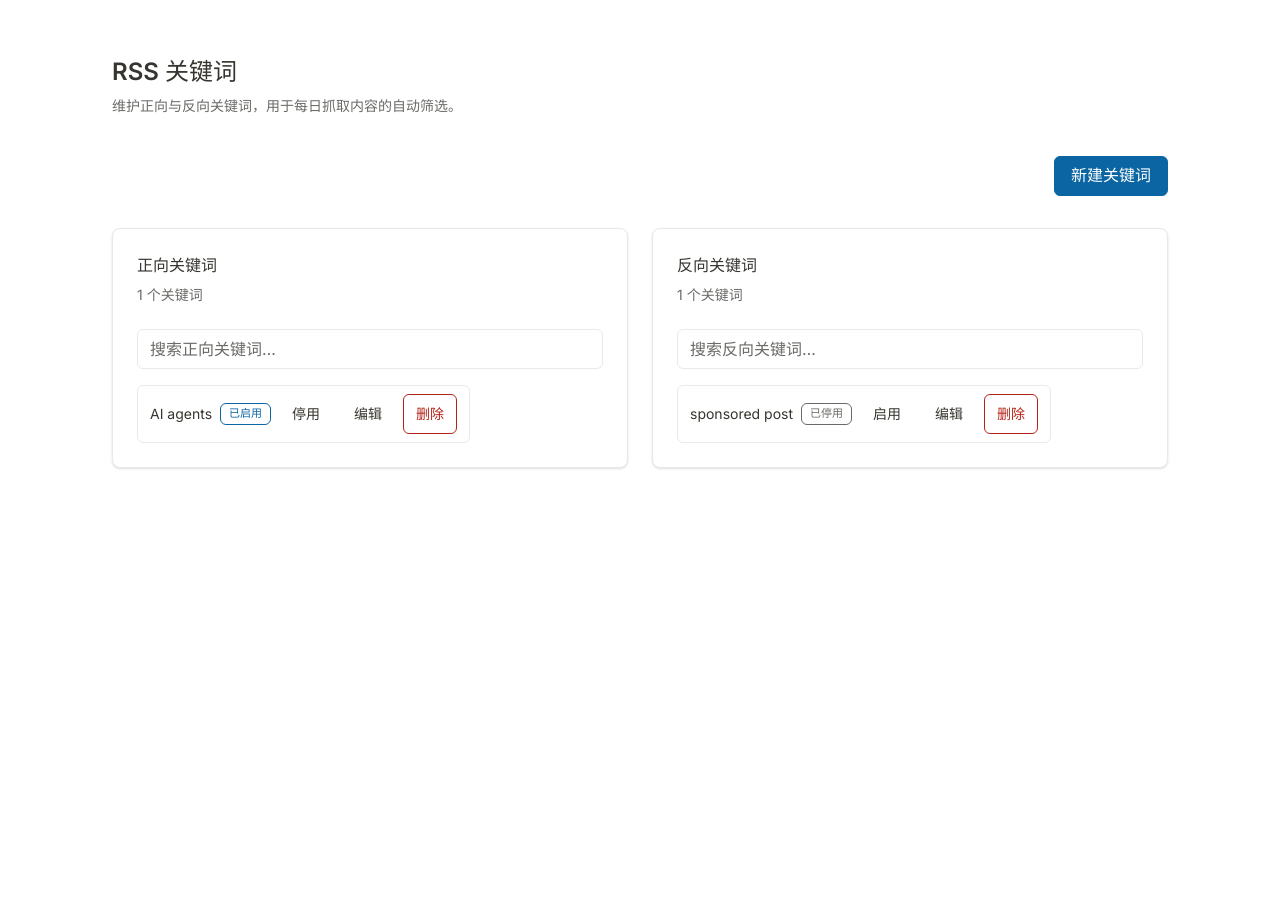
Scenario: RssKeywordsPage › edits and reclassifies a keyword through the drawer
The image size is (1280, 900).
Click the button with aria-label "编辑 AI agents".
click(368, 414)  # box [341,394,395,434]
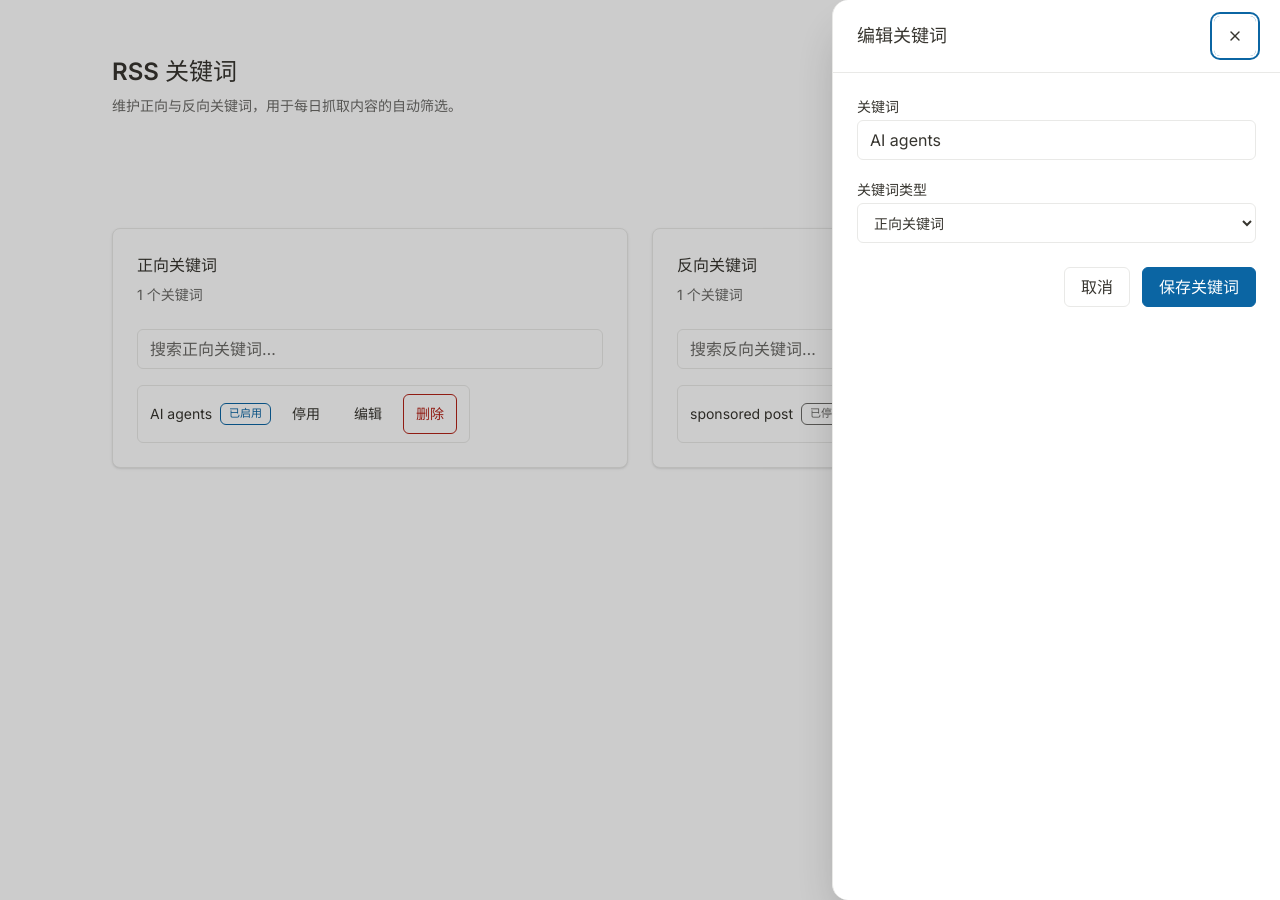
Check: the field labelled "关键词" holds "AI agents"
Replace the text in the field labelled "关键词" with "AI systems" at (1056, 140), box [857,120,1256,160]
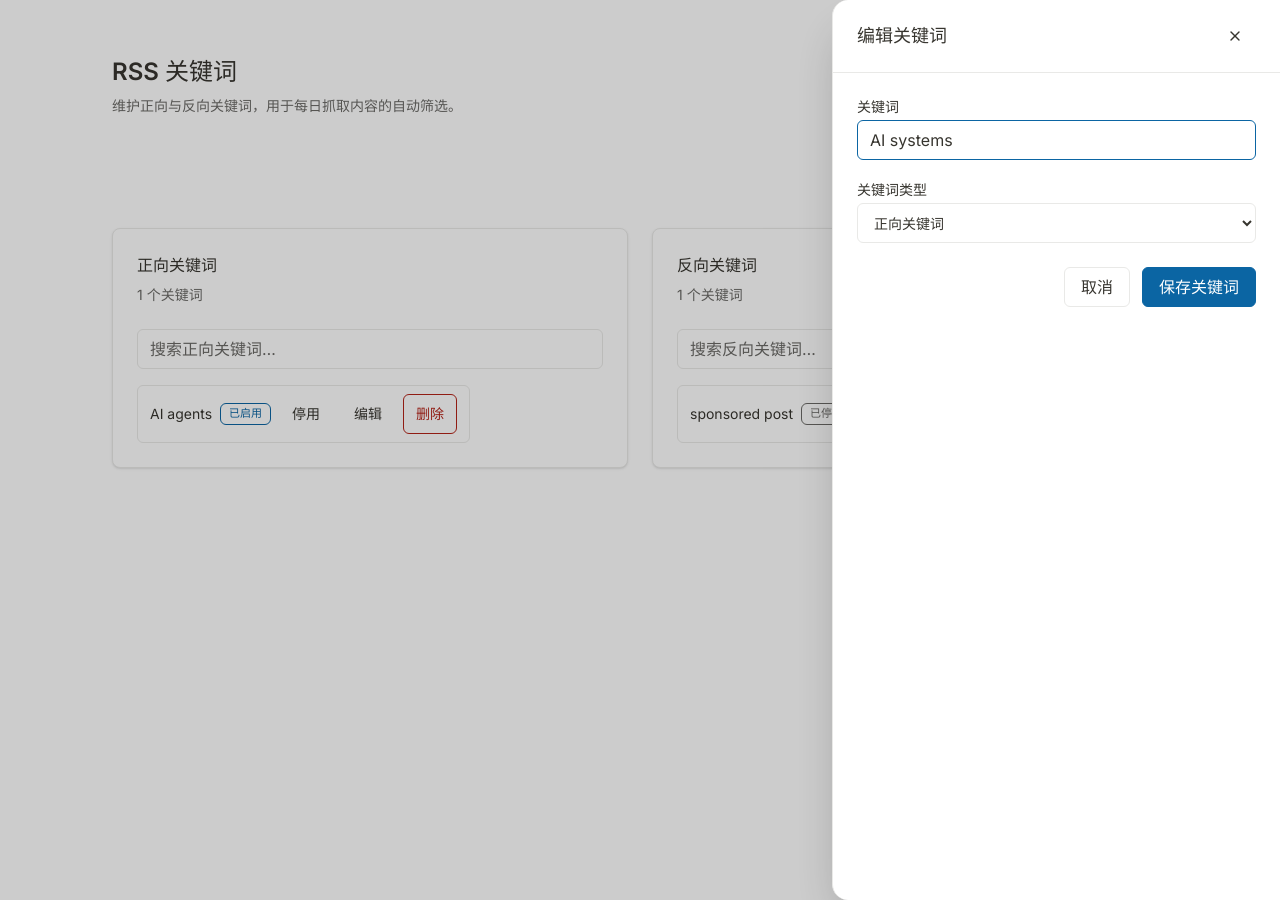
Select "反向关键词" in the dropdown labelled "关键词类型" at (1056, 223), box [857,203,1256,243]
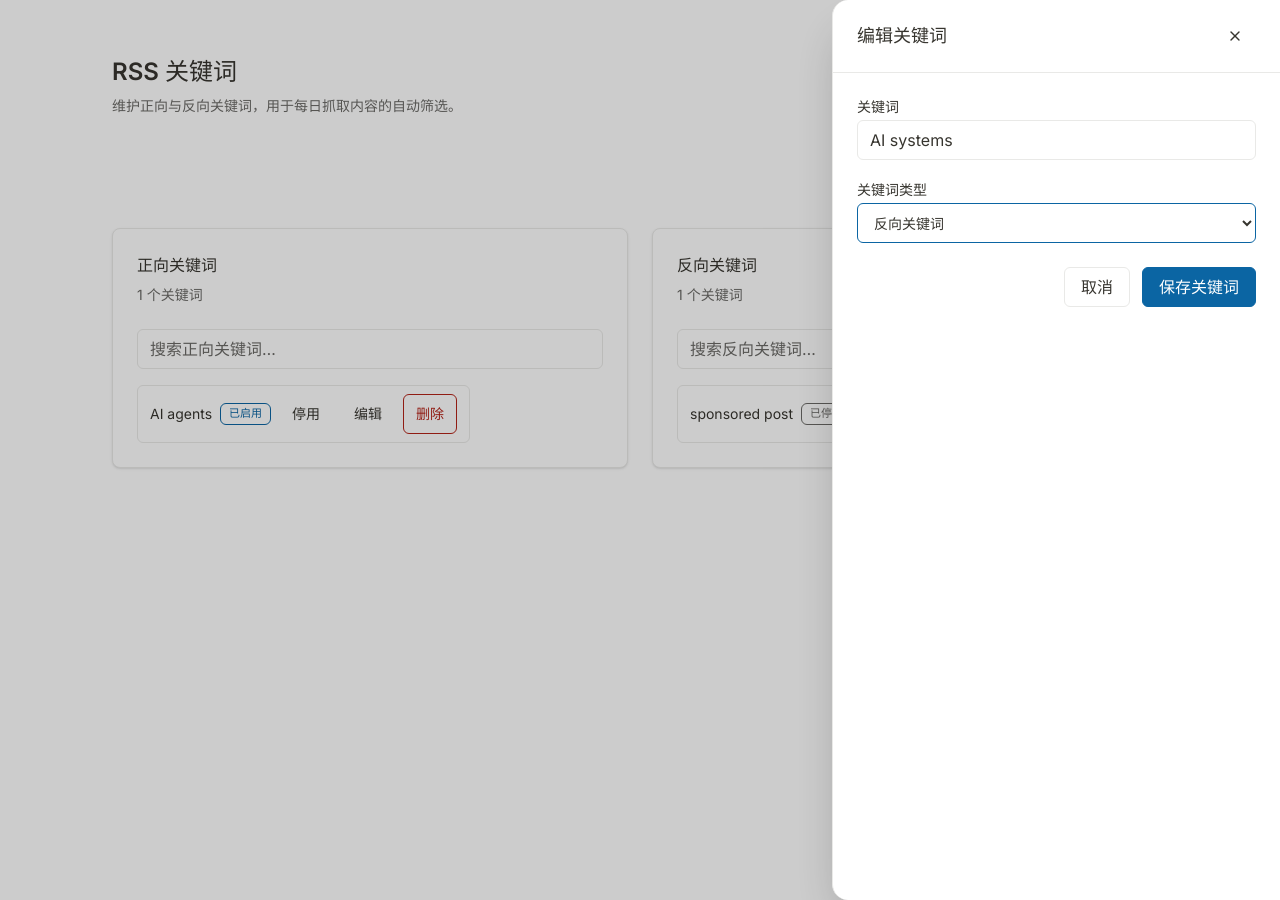
Click the button "保存关键词".
click(1199, 287)  # box [1142,267,1256,307]
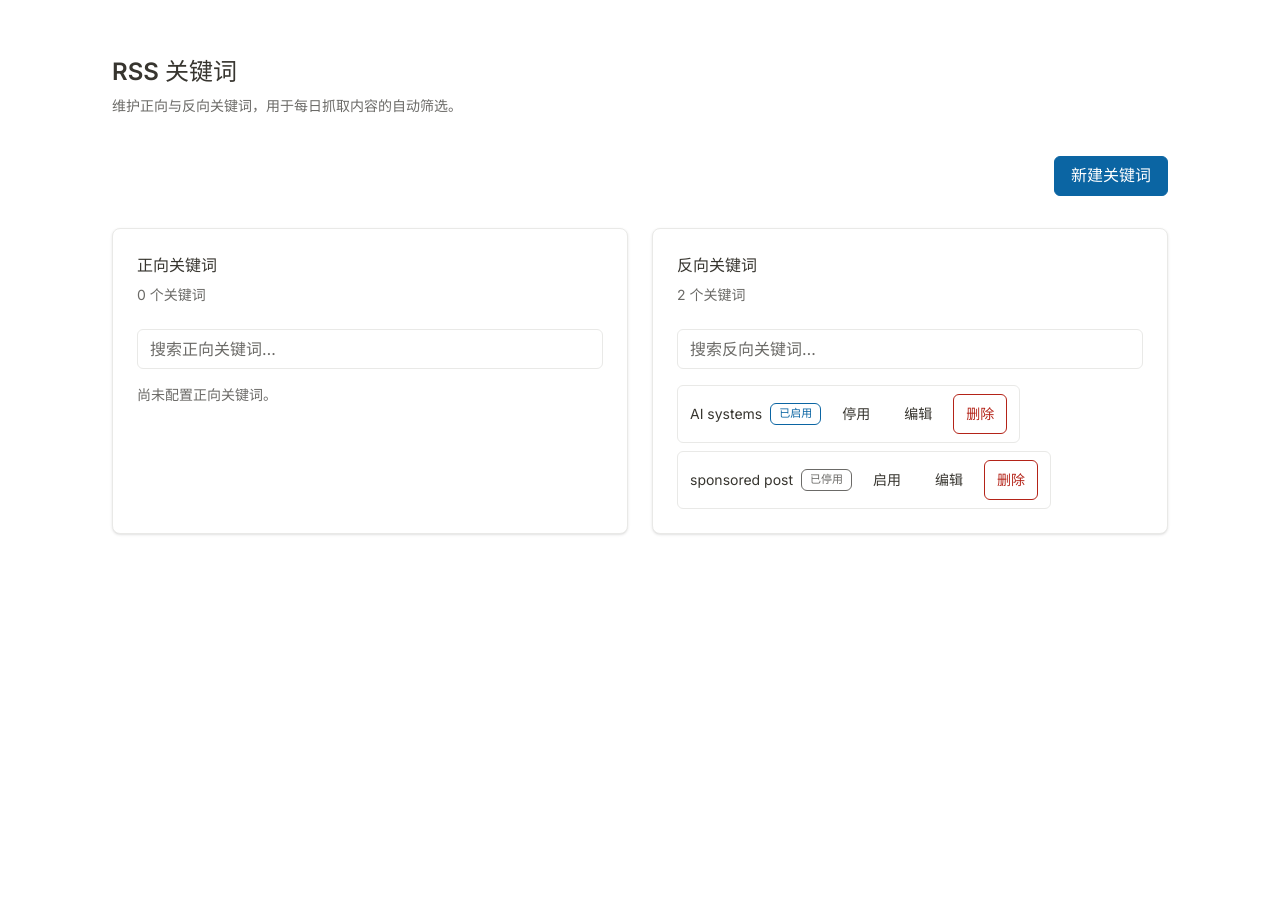
Check: the element "反向关键词" shows "AI systems", box [690,405,762,422]
Check: the element "正向关键词" no longer shows "AI agents", box [112,228,628,534]
Check: the dialog is gone
